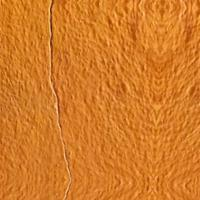crack: (25, 0, 75, 109)
